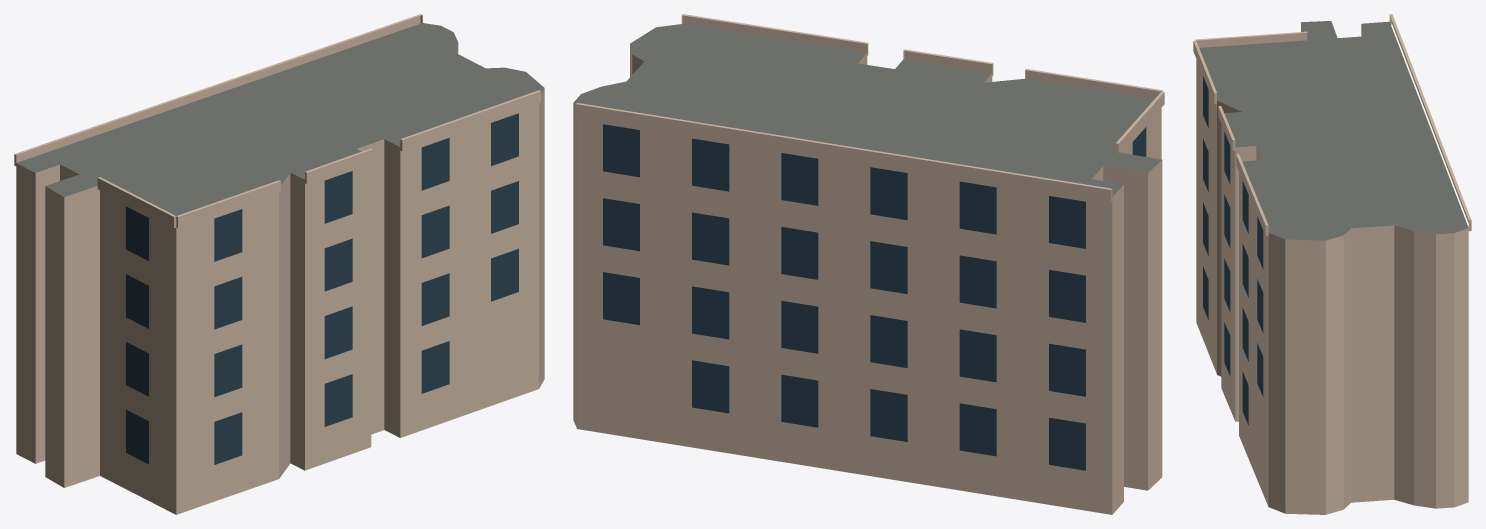
The picture shows the model from 3 angles, left to right: view 1: azimuth 30°, elevation 25°; view 2: azimuth 150°, elevation 25°; view 3: azimuth 270°, elevation 25°; orthographic projection. The views are drawn at different scales.
Parts seen in each view (by area): view 1: Footprint 0 / surface 2, Footprint 0 / surface 1, Inset glazing, Facade bay volumes; view 2: Footprint 0 / surface 2, Footprint 0 / surface 1, Inset glazing, Facade bay volumes; view 3: Footprint 0 / surface 2, Footprint 0 / surface 1, Inset glazing, Facade bay volumes.
Part boxes in pixels (<box>): Footprint 0 / surface 2: <box>16,44,544,514</box>; Footprint 0 / surface 1: <box>16,23,544,215</box>; Inset glazing: <box>126,113,518,464</box>; Facade bay volumes: <box>14,14,540,228</box>; Footprint 0 / surface 2: <box>573,44,1162,514</box>; Footprint 0 / surface 1: <box>573,24,1161,196</box>; Inset glazing: <box>603,124,1146,470</box>; Facade bay volumes: <box>576,14,1164,202</box>; Footprint 0 / surface 2: <box>1196,23,1468,514</box>; Footprint 0 / surface 1: <box>1199,21,1468,240</box>; Inset glazing: <box>1203,76,1263,425</box>; Facade bay volumes: <box>1193,14,1471,236</box>.
Size of the model in its own units: 21.95 by 13.13 by 11.74.
